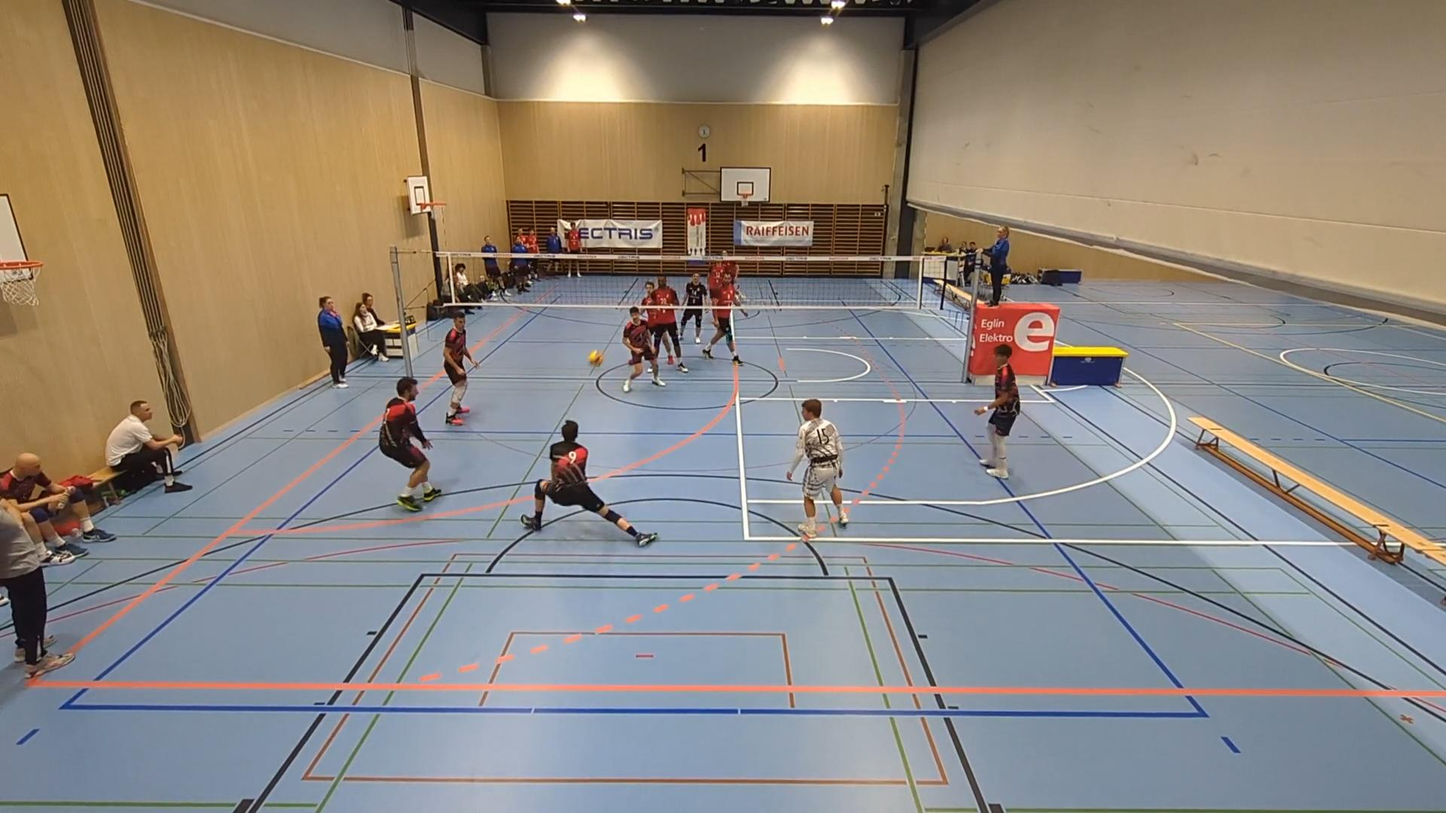Player: (786, 399, 848, 536), (379, 377, 441, 511), (975, 344, 1020, 479), (643, 276, 687, 373), (443, 311, 477, 425), (621, 306, 665, 392), (702, 282, 741, 364), (682, 274, 707, 343), (700, 255, 723, 294), (720, 252, 744, 288)
Receive: (523, 417, 658, 548)
ball: (588, 350, 603, 365)
